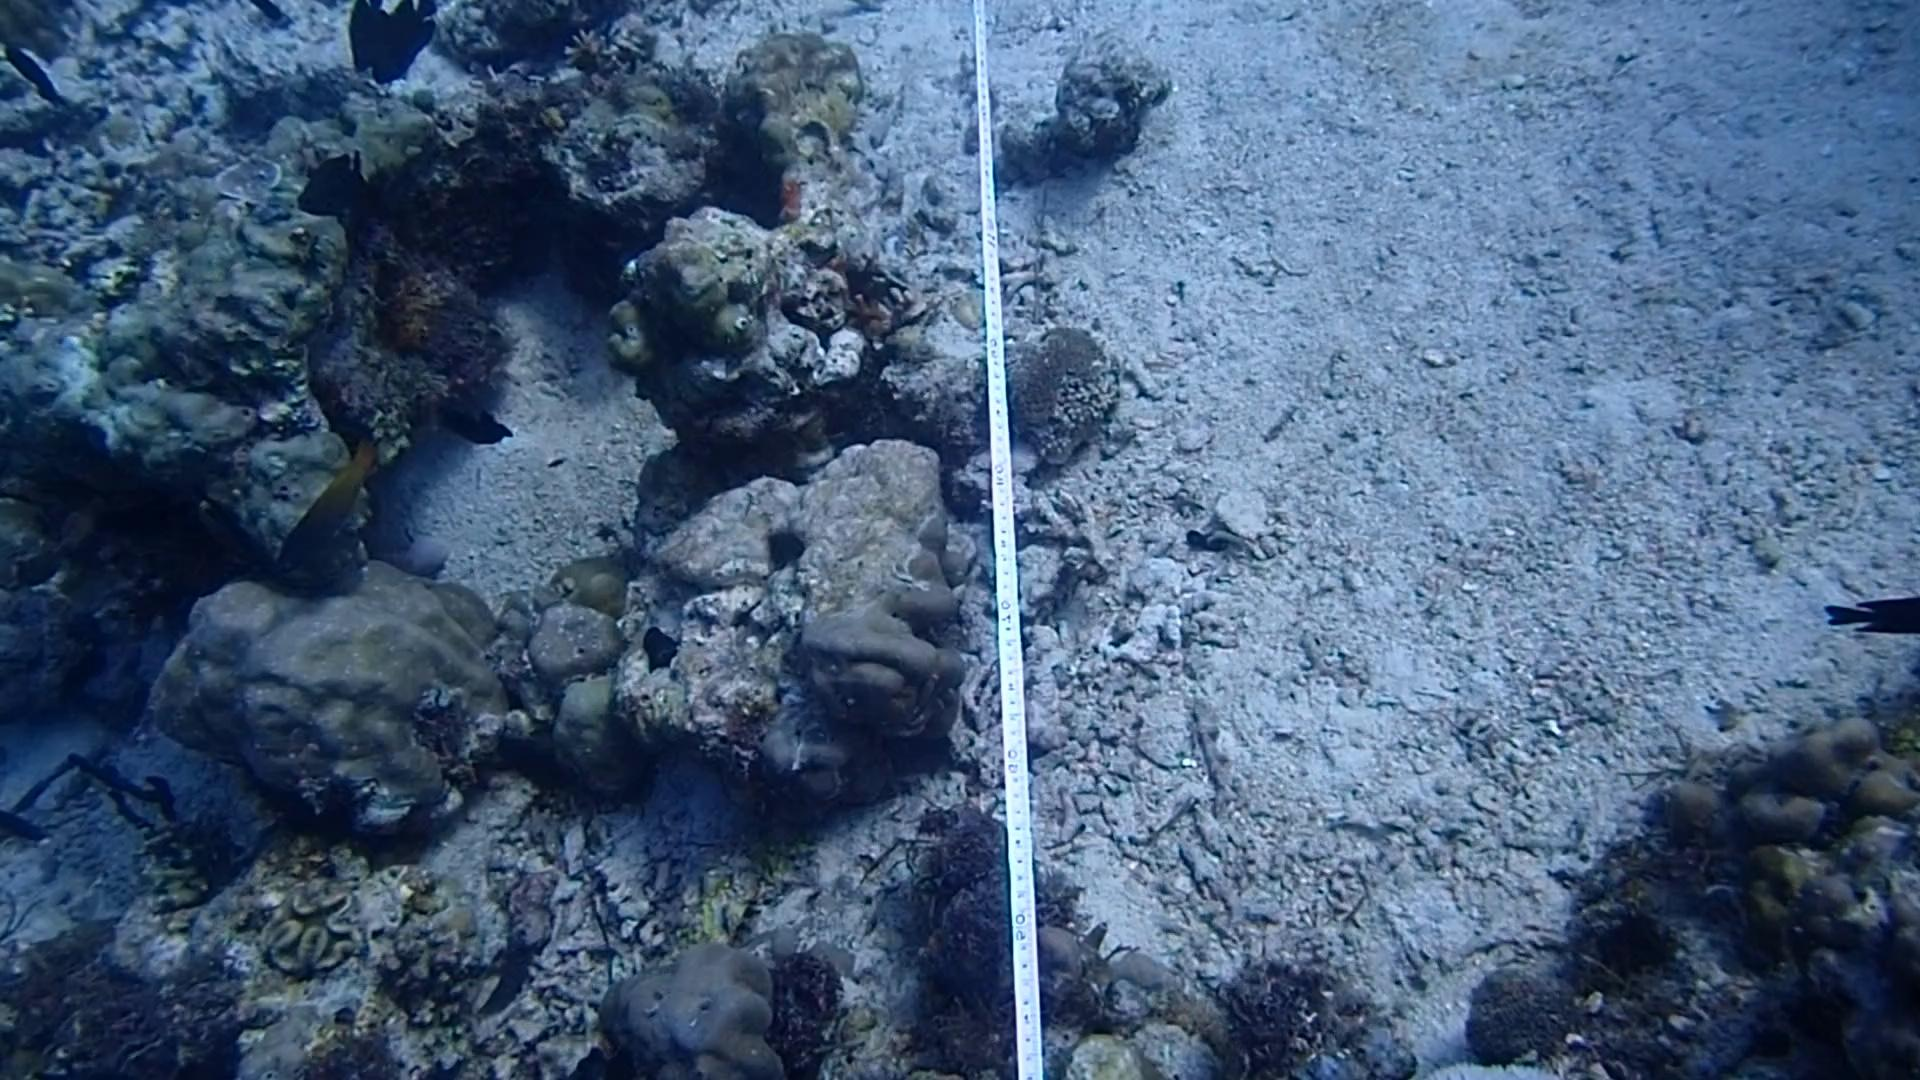Dark Fish: (431, 381, 527, 464), (290, 145, 389, 219), (367, 0, 450, 87), (1821, 574, 1917, 647), (1, 32, 80, 109), (334, 0, 389, 83)
Half Blue - Half Yellow: (273, 426, 381, 575)
